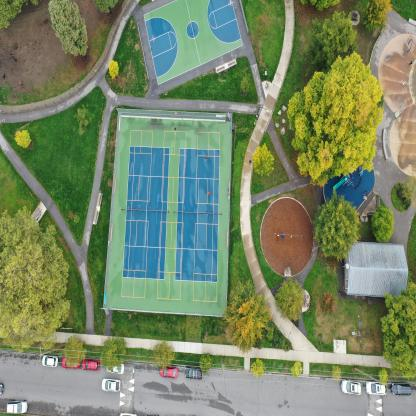Coniferous Tree: (226, 283, 275, 353), (315, 198, 360, 261), (48, 0, 91, 64), (274, 273, 305, 326), (362, 0, 390, 33)
Deciduous Tree: (288, 56, 382, 182), (0, 210, 70, 352), (379, 278, 416, 383), (308, 17, 360, 56), (370, 206, 396, 244), (254, 140, 276, 177), (101, 336, 128, 365), (63, 336, 87, 366), (13, 130, 33, 148), (251, 358, 267, 379), (288, 360, 304, 376), (377, 367, 389, 384), (109, 60, 119, 80)
